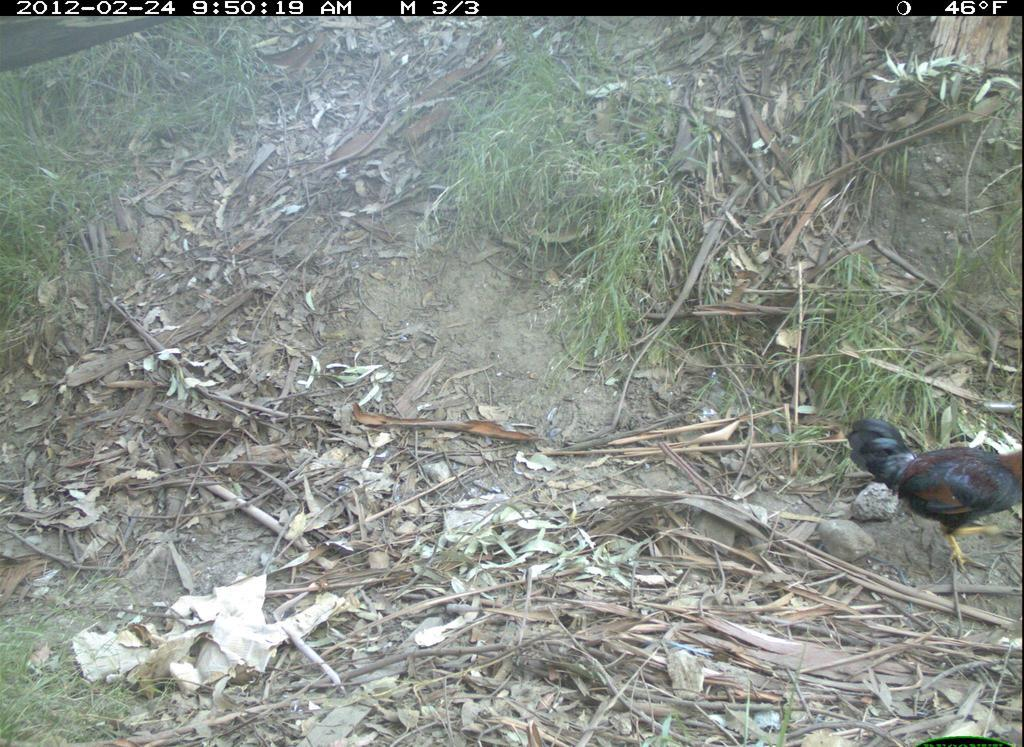bird: (844, 406, 1023, 579)
